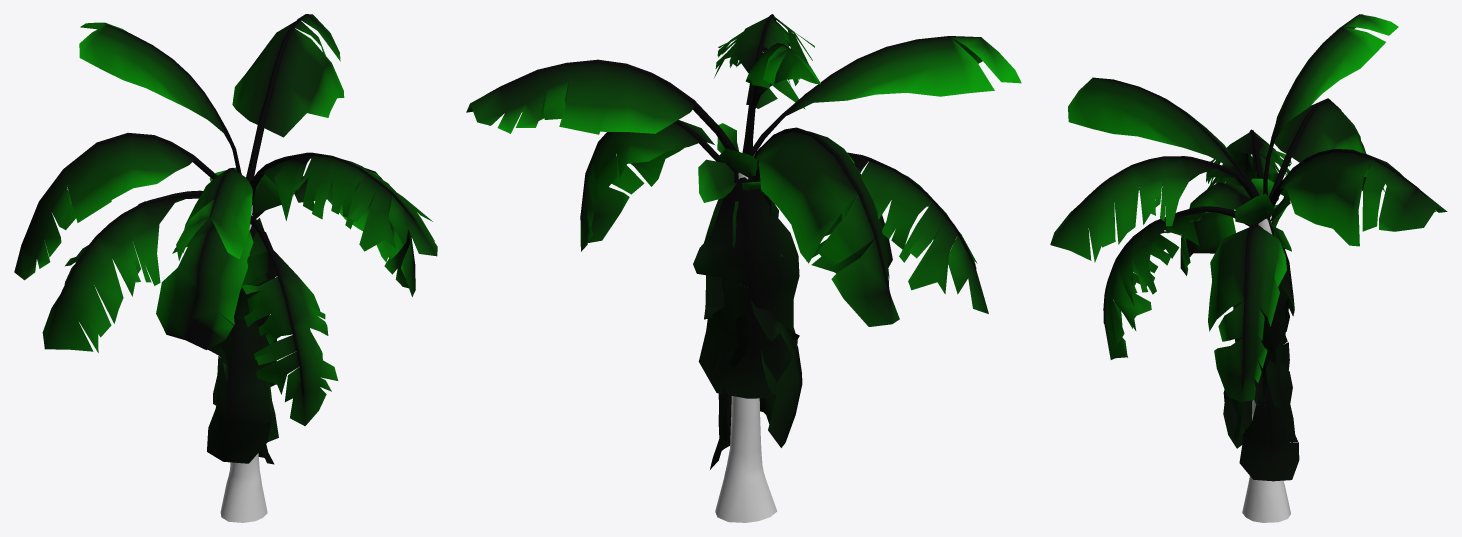
File: BananaTree02_afsTREE_xlprl05_xafs02.fbx
3 renders of one model, left to right at view 1: azimuth 30°, elevation 25°; view 2: azimuth 150°, elevation 25°; view 3: azimuth 270°, elevation 25°, orthographic. The views are drawn at different scales.
Visible parts, largest first — view 1: DyingBranch_xw03_xt05_xlp01_xp05, DyingBranch_xw03_xt05_xlp02_xp10, BananaLeaf_xw05_xt06_xlp04_xp02, BananaLeaf_xw09_xt10_xlp08_xp10, DyingBranch_xw07_xt10_xlp06_xp03, DeadBananaLeaf_xw01_xt03_xlp01_xp01, DeadBananaLeaf_xw00_xt00_xlp00.009, BananaLeaf_xw09_xt10_xlp09_xp01, BananaLeaf_xw08_xt11_xlp07_xp06, trunk_BananaTree01_xw03_xt02, BananaLeaf_xw04_xt07_xlp03_xp08, DeadBananaLeaf_xw01_xt01_xlp01_xp07.002; view 2: DeadBananaLeaf_xw00_xt00_xlp00.010, BananaLeaf_xw05_xt06_xlp04_xp02, BananaLeaf_xw09_xt10_xlp08_xp10, BananaLeaf_xw08_xt11_xlp07_xp06, DyingBranch_xw03_xt05_xlp01_xp05, BananaLeaf_xw04_xt07_xlp03_xp08, trunk_BananaTree01_xw03_xt02, DyingBranch_xw07_xt10_xlp06_xp03, DeadBananaLeaf_xw00_xt00_xlp00.009, BananaLeaf_xw09_xt10_xlp09_xp01, DeadBananaLeaf_xw01_xt01_xlp01_xp07.003, DeadBananaLeaf_xw00_xt00_xlp00.007 (+3 smaller); view 3: BananaLeaf_xw09_xt10_xlp08_xp10, BananaLeaf_xw04_xt07_xlp03_xp08, DyingBranch_xw07_xt10_xlp06_xp03, BananaLeaf_xw08_xt11_xlp07_xp06, DyingBranch_xw03_xt05_xlp02_xp10, BananaLeaf_xw09_xt10_xlp09_xp01, DeadBananaLeaf_xw00_xt00_xlp00.011, BananaLeaf_xw05_xt06_xlp04_xp02, DeadBananaLeaf_xw01_xt03_xlp01_xp01, DyingBranch_xw03_xt05_xlp01_xp05, trunk_BananaTree01_xw03_xt02, DeadBananaLeaf_xw00_xt00_xlp00.010 (+4 smaller).
Boxes of the visible parts, box(x1,y1,x2,y2) form: DyingBranch_xw03_xt05_xlp01_xp05: box(42, 190, 202, 352); DyingBranch_xw03_xt05_xlp02_xp10: box(241, 215, 338, 425); BananaLeaf_xw05_xt06_xlp04_xp02: box(14, 133, 217, 280); BananaLeaf_xw09_xt10_xlp08_xp10: box(232, 14, 344, 182); DyingBranch_xw07_xt10_xlp06_xp03: box(250, 152, 437, 256); DeadBananaLeaf_xw01_xt03_xlp01_xp01: box(156, 217, 253, 349); DeadBananaLeaf_xw00_xt00_xlp00.009: box(207, 318, 272, 463); BananaLeaf_xw09_xt10_xlp09_xp01: box(79, 22, 241, 173); BananaLeaf_xw08_xt11_xlp07_xp06: box(176, 168, 252, 260); trunk_BananaTree01_xw03_xt02: box(220, 205, 267, 522); BananaLeaf_xw04_xt07_xlp03_xp08: box(252, 168, 415, 296); DeadBananaLeaf_xw01_xt01_xlp01_xp07.002: box(252, 174, 281, 214); DeadBananaLeaf_xw00_xt00_xlp00.010: box(693, 168, 799, 398); BananaLeaf_xw05_xt06_xlp04_xp02: box(753, 127, 899, 326); BananaLeaf_xw09_xt10_xlp08_xp10: box(466, 59, 737, 151); BananaLeaf_xw08_xt11_xlp07_xp06: box(751, 36, 1021, 156); DyingBranch_xw03_xt05_xlp01_xp05: box(752, 152, 988, 313); BananaLeaf_xw04_xt07_xlp03_xp08: box(580, 120, 724, 251); trunk_BananaTree01_xw03_xt02: box(715, 172, 777, 522); DyingBranch_xw07_xt10_xlp06_xp03: box(714, 14, 814, 153); DeadBananaLeaf_xw00_xt00_xlp00.009: box(750, 298, 802, 447); BananaLeaf_xw09_xt10_xlp09_xp01: box(745, 43, 820, 155); DeadBananaLeaf_xw01_xt01_xlp01_xp07.003: box(698, 159, 736, 202); DeadBananaLeaf_xw00_xt00_xlp00.007: box(704, 194, 799, 342); BananaLeaf_xw09_xt10_xlp08_xp10: box(1270, 148, 1447, 246); BananaLeaf_xw04_xt07_xlp03_xp08: box(1208, 223, 1286, 401); DyingBranch_xw07_xt10_xlp06_xp03: box(1050, 156, 1257, 262); BananaLeaf_xw08_xt11_xlp07_xp06: box(1068, 77, 1259, 195); DyingBranch_xw03_xt05_xlp02_xp10: box(1103, 206, 1251, 359); BananaLeaf_xw09_xt10_xlp09_xp01: box(1263, 14, 1398, 195); DeadBananaLeaf_xw00_xt00_xlp00.011: box(1239, 359, 1299, 481); BananaLeaf_xw05_xt06_xlp04_xp02: box(1268, 98, 1366, 199); DeadBananaLeaf_xw01_xt03_xlp01_xp01: box(1180, 182, 1250, 275); DyingBranch_xw03_xt05_xlp01_xp05: box(1206, 129, 1291, 195); trunk_BananaTree01_xw03_xt02: box(1242, 215, 1290, 522); DeadBananaLeaf_xw00_xt00_xlp00.010: box(1233, 217, 1294, 412).
Bounding box in the file's own units: 3.36 × 3.17 × 4.02.
